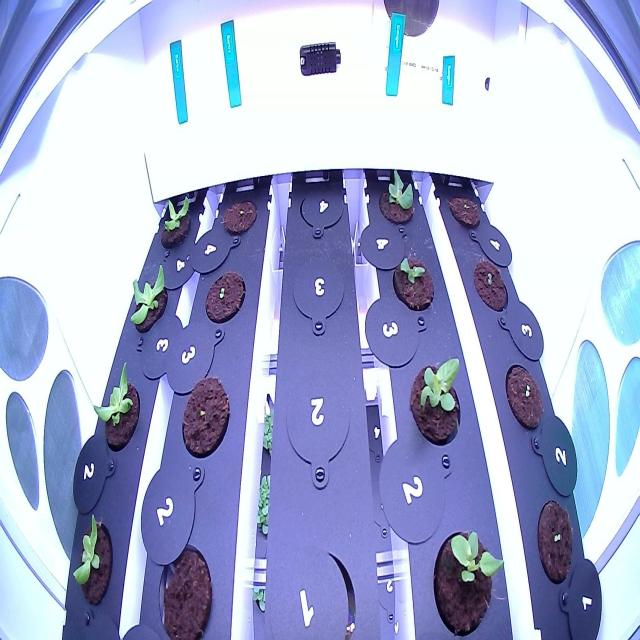empty_pod: (278, 370, 360, 499), (264, 536, 362, 640), (288, 242, 350, 342), (294, 176, 349, 237)
germination: (533, 489, 576, 592), (501, 356, 548, 437), (470, 253, 513, 318), (201, 267, 248, 326)
pod: (153, 534, 215, 640), (176, 366, 234, 460), (219, 191, 262, 243), (444, 182, 484, 237)
young: (425, 520, 508, 640), (404, 350, 466, 449), (86, 352, 143, 458), (66, 508, 120, 610), (123, 256, 174, 341), (387, 244, 438, 318), (374, 161, 419, 232), (153, 186, 198, 256)
